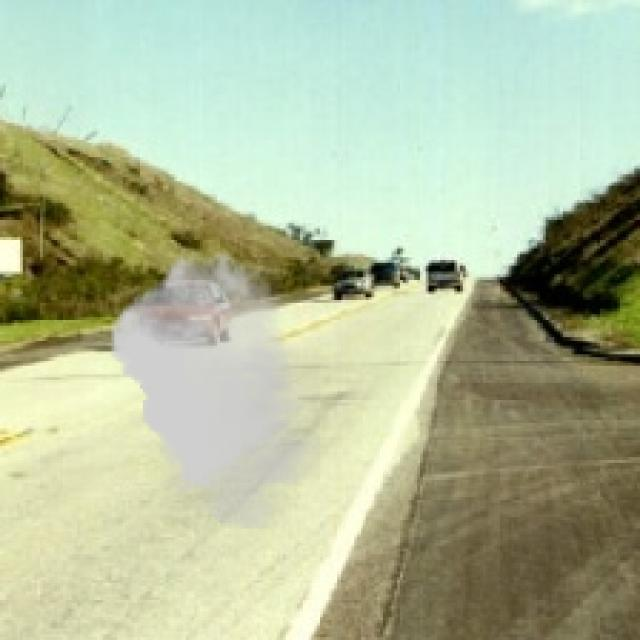smoke: (111, 252, 320, 528)
